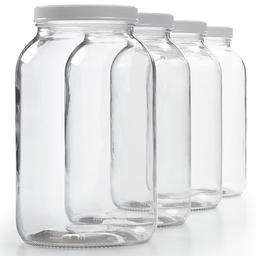glass: (0, 0, 162, 256), (107, 5, 225, 217)
